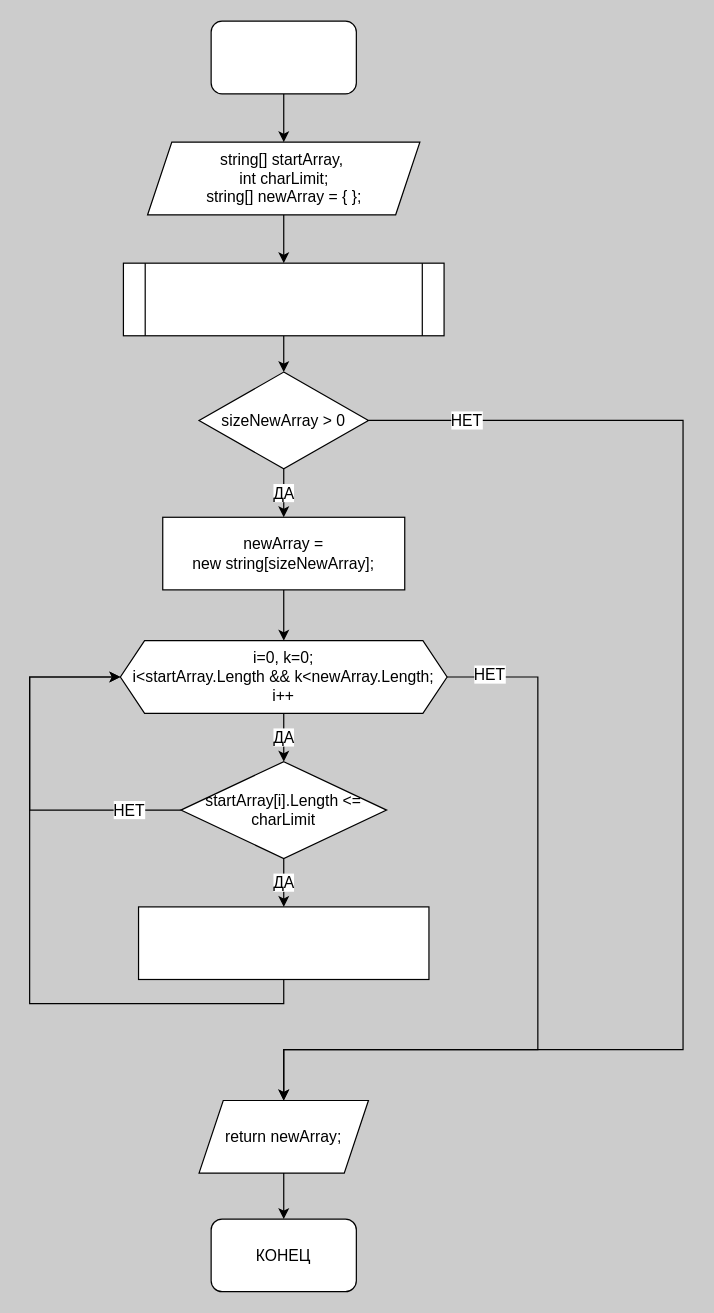
The diagram is 714 pixels wide and 1313 high, and some of its shapes have lost their labels. The shapes that lost their labels are listed below. From the top down, each one's centre as x and y in pixels, then its label:
At point 283,57: "НАЧАЛО".
At point 283,299: "int sizeNewArray = getSizeNewArray(startArray, charLimit);".
At point 283,942: "newArray[k] = startArray[i]; k++;".
